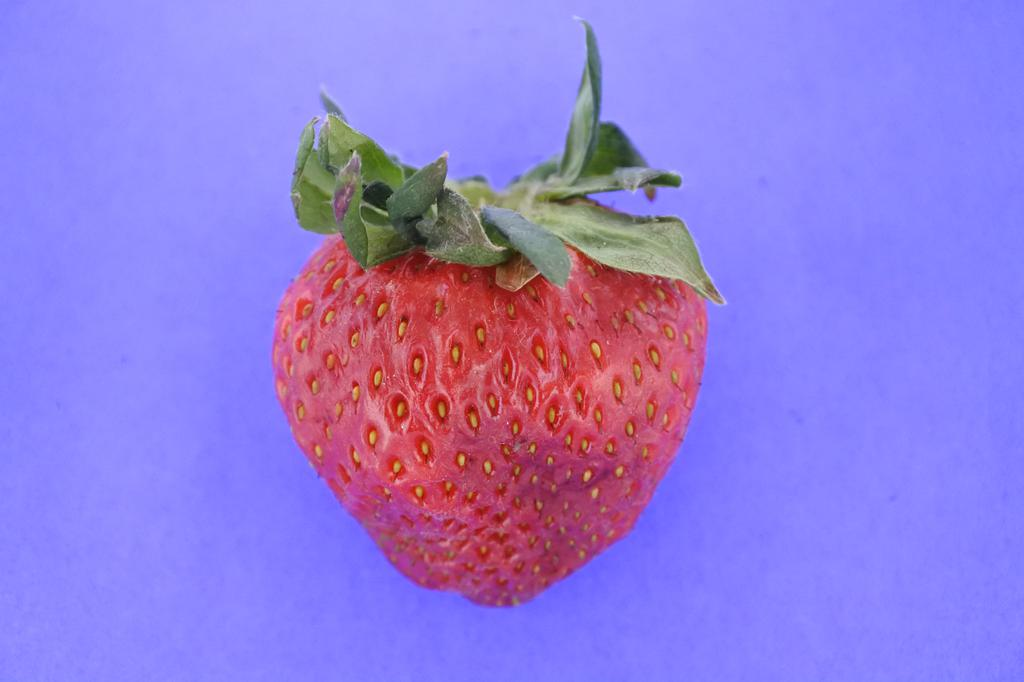red strawberry: (268, 15, 728, 609)
